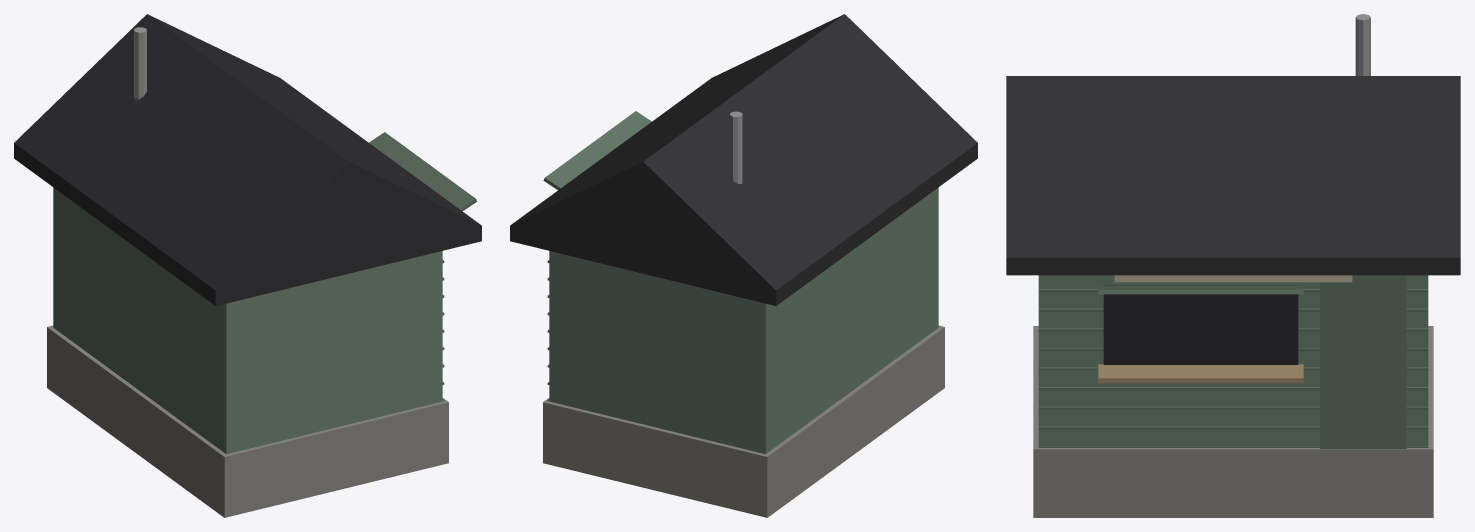
The model's file is SM_Prop_cafe_building_0_LOD1.glb.
3 views of the same model, side by side, from view 1: azimuth 30°, elevation 25°; view 2: azimuth 150°, elevation 25°; view 3: azimuth 270°, elevation 25° (orthographic). The views are drawn at different scales.
Parts seen in each view (by area): view 1: SM_Prop_cafe_building_0_LOD1; view 2: SM_Prop_cafe_building_0_LOD1; view 3: SM_Prop_cafe_building_0_LOD1.
Part boxes in pixels (left/top/right/bottom): SM_Prop_cafe_building_0_LOD1: left=14, top=14, right=481, bottom=517; SM_Prop_cafe_building_0_LOD1: left=510, top=14, right=977, bottom=517; SM_Prop_cafe_building_0_LOD1: left=1006, top=14, right=1460, bottom=517.
Size of the model in its own units: 3.64 by 4.2 by 4.2.
